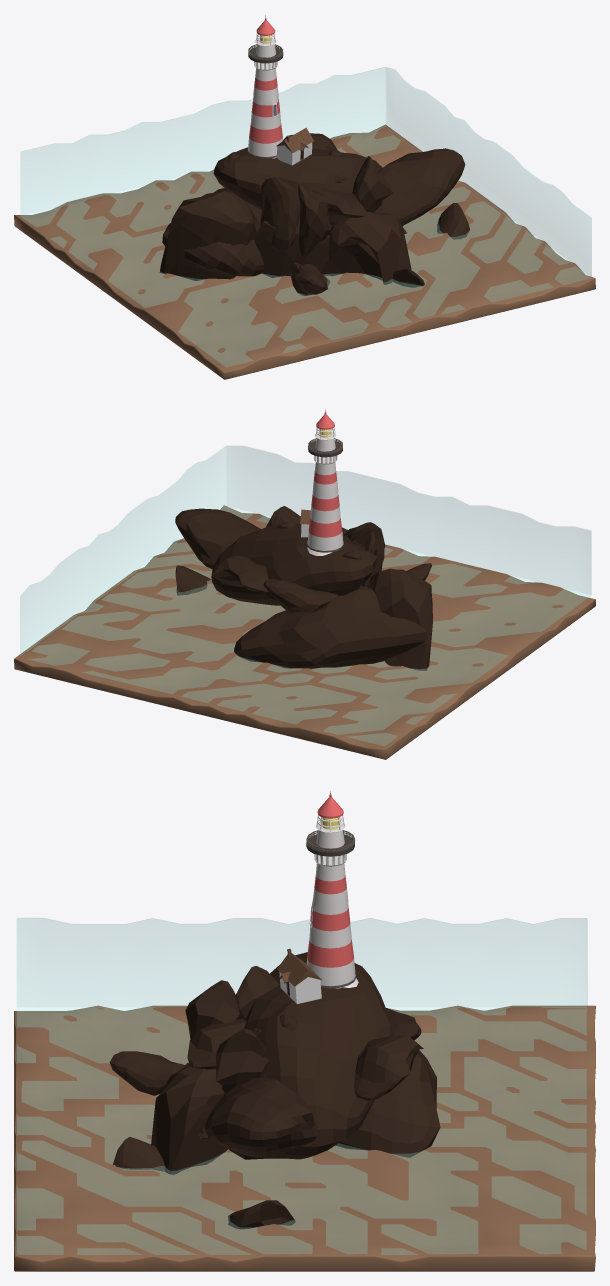
The model's file is Low_Poly_Lighthouse_Scene.glb.
The picture shows the model from 3 angles, top to bottom: view 1: azimuth 30°, elevation 25°; view 2: azimuth 150°, elevation 25°; view 3: azimuth 270°, elevation 25°; orthographic projection. The views are drawn at different scales.
Parts seen in each view (by area): view 1: Sea_Material.006_0, Sand_Sand_0, Cube.003_Rocks_0, Cube.001_Rocks_0, Cube.020_Rocks_0, Cube.002_Rocks_0, Cube.021_Rocks_0, Cube.012_Rocks_0, Cube.019_Rocks_0, Circle_Material.002_0, Cube.013_Rocks_0, Cube.014_Rocks_0 (+5 smaller); view 2: Sea_Material.006_0, Sand_Sand_0, Cube.021_Rocks_0, Cube.001_Rocks_0, Cube.003_Rocks_0, Cube.002_Rocks_0, Circle_Material.002_0, Cube.006_Rocks_0, Cube.005_Rocks_0, Circle_Material.003_0, Cube.010_Rocks_0, Cube.013_Rocks_0 (+1 smaller); view 3: Sand_Sand_0, Sea_Material.006_0, Cube.001_Rocks_0, Cube.002_Rocks_0, Cube.020_Rocks_0, Cube.021_Rocks_0, Circle_Material.002_0, Cube.005_Rocks_0, Circle_Material.003_0, Cube.014_Rocks_0, Cube.008_Rocks_0, Cube.013_Rocks_0 (+7 smaller).
Boxes of the visible parts, left/top/right/bottom form: Sea_Material.006_0: left=20, top=67, right=591, bottom=366; Sand_Sand_0: left=14, top=124, right=595, bottom=379; Cube.003_Rocks_0: left=159, top=191, right=260, bottom=280; Cube.001_Rocks_0: left=213, top=147, right=382, bottom=225; Cube.020_Rocks_0: left=322, top=211, right=411, bottom=284; Cube.002_Rocks_0: left=374, top=148, right=465, bottom=225; Cube.021_Rocks_0: left=162, top=188, right=264, bottom=276; Cube.012_Rocks_0: left=260, top=177, right=300, bottom=251; Cube.019_Rocks_0: left=255, top=218, right=331, bottom=277; Circle_Material.002_0: left=248, top=37, right=283, bottom=158; Cube.013_Rocks_0: left=298, top=183, right=330, bottom=256; Cube.014_Rocks_0: left=352, top=156, right=393, bottom=211; Sea_Material.006_0: left=20, top=446, right=591, bottom=745; Sand_Sand_0: left=14, top=505, right=595, bottom=759; Cube.021_Rocks_0: left=234, top=586, right=426, bottom=668; Cube.001_Rocks_0: left=211, top=522, right=377, bottom=605; Cube.003_Rocks_0: left=367, top=568, right=432, bottom=670; Cube.002_Rocks_0: left=175, top=508, right=260, bottom=569; Circle_Material.002_0: left=307, top=431, right=343, bottom=555; Cube.006_Rocks_0: left=263, top=579, right=337, bottom=612; Cube.005_Rocks_0: left=212, top=555, right=268, bottom=592; Circle_Material.003_0: left=308, top=412, right=342, bottom=537; Cube.010_Rocks_0: left=175, top=565, right=211, bottom=595; Cube.013_Rocks_0: left=344, top=522, right=385, bottom=571; Sand_Sand_0: left=14, top=1005, right=595, bottom=1271; Sea_Material.006_0: left=17, top=918, right=587, bottom=1254; Cube.001_Rocks_0: left=224, top=960, right=391, bottom=1159; Cube.002_Rocks_0: left=205, top=1078, right=317, bottom=1157; Cube.020_Rocks_0: left=151, top=1064, right=228, bottom=1174; Cube.021_Rocks_0: left=335, top=1050, right=440, bottom=1157; Circle_Material.002_0: left=306, top=822, right=358, bottom=988; Cube.005_Rocks_0: left=354, top=1035, right=423, bottom=1100; Circle_Material.003_0: left=307, top=794, right=353, bottom=967; Cube.014_Rocks_0: left=216, top=1028, right=269, bottom=1094; Cube.008_Rocks_0: left=109, top=1051, right=186, bottom=1095; Cube.013_Rocks_0: left=185, top=980, right=239, bottom=1039.
Bounding box in the file's own units: 14.69 × 10.48 × 14.41.
